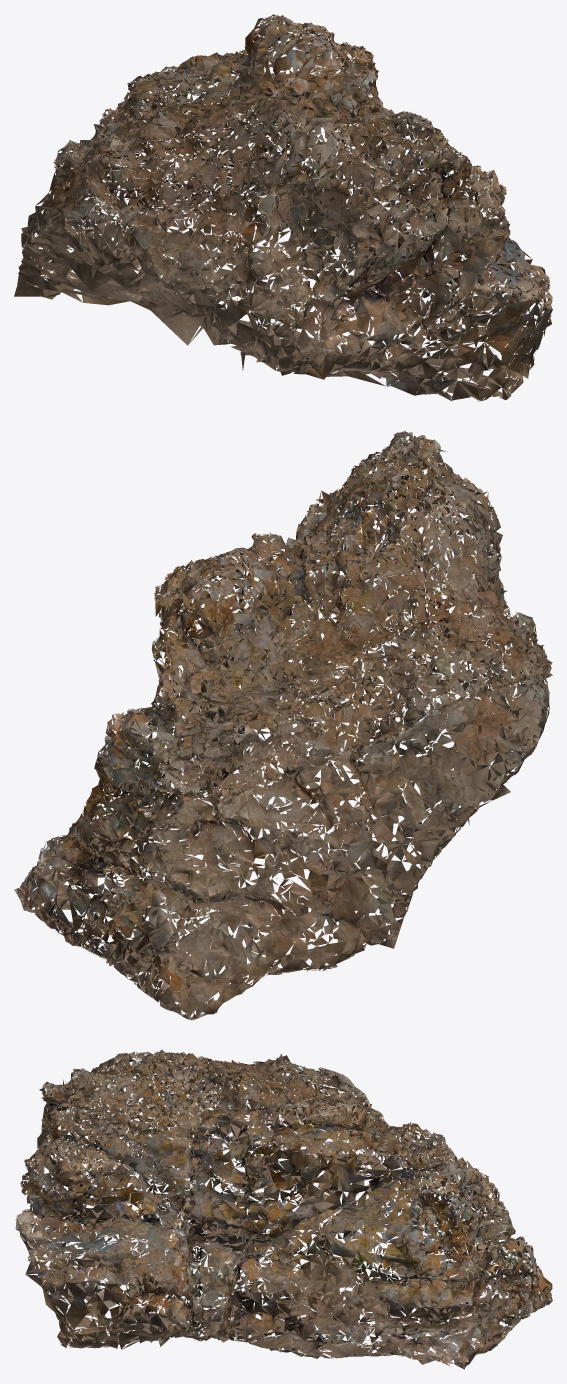
Rendered from boulder_01.glb.
3 renders of one model, top to bottom at view 1: azimuth 30°, elevation 25°; view 2: azimuth 150°, elevation 25°; view 3: azimuth 270°, elevation 25°, orthographic. The views are drawn at different scales.
Visible parts, largest first — view 1: boulder_01; view 2: boulder_01; view 3: boulder_01.
Part boxes in pixels (<box>): boulder_01: <box>14,14,552,401</box>; boulder_01: <box>14,430,552,1020</box>; boulder_01: <box>15,1049,552,1369</box>.
Size of the model in its own units: 1.28 by 1.02 by 1.83.
1 material, 1 textured.
